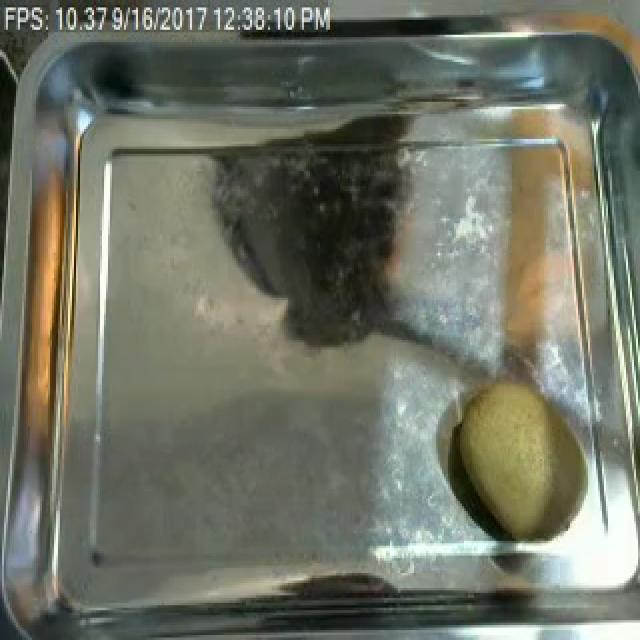Fruit: (446, 370, 604, 548)
